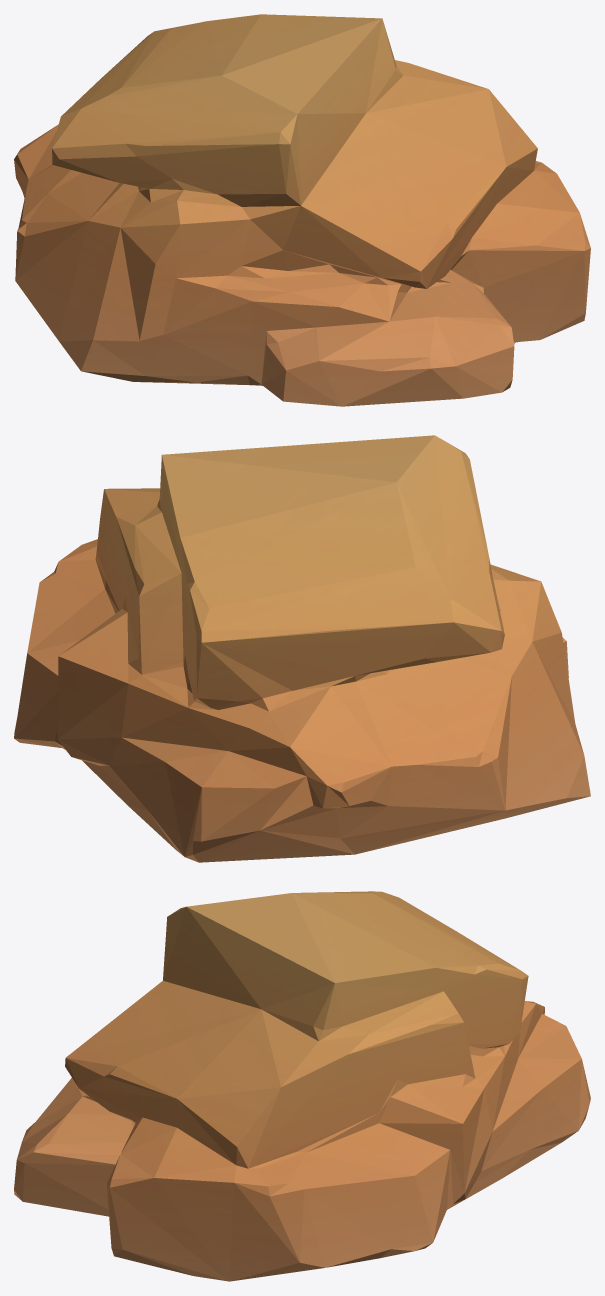
File: Monument_cliffd.fbx
3 views of the same model, one above another, from view 1: azimuth 30°, elevation 25°; view 2: azimuth 150°, elevation 25°; view 3: azimuth 270°, elevation 25° (orthographic). The views are drawn at different scales.
Visible parts, largest first — view 1: Monument_cliffd; view 2: Monument_cliffd; view 3: Monument_cliffd.
Part boxes in pixels (box(x1,y1,x2,y2)): Monument_cliffd: box(14, 14, 590, 406); Monument_cliffd: box(14, 435, 590, 862); Monument_cliffd: box(14, 891, 590, 1281).
Bounding box in the file's own units: 11.37 × 6.13 × 12.4.
